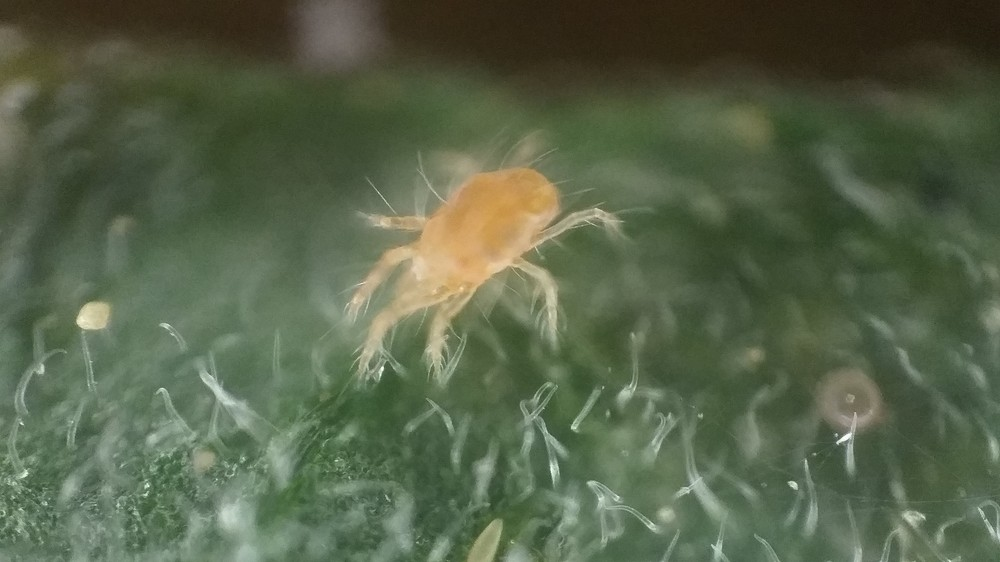Aracnido Rojo: (317, 131, 646, 386)
